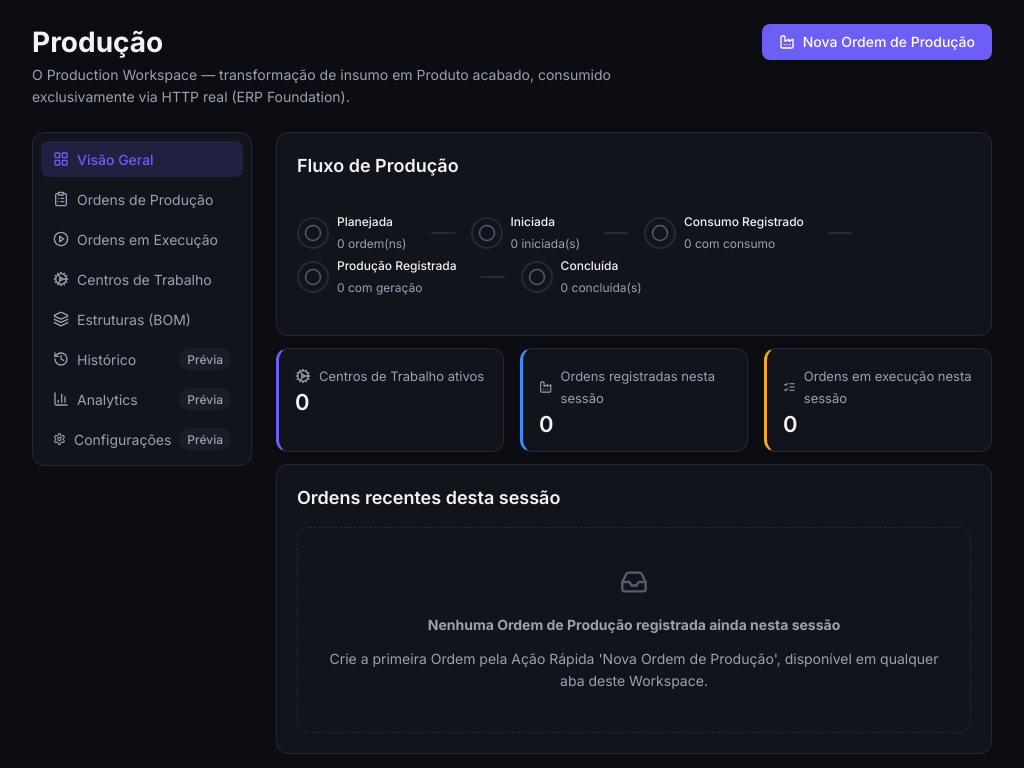
Test: ProductionPage — Production Workspace por seções (IMP-505) › Ordens de Produção: consulta por Order de origem mostra estado honesto quando nenhuma existe
The image size is (1024, 768).
Expected: the button "Visão Geral" is shown, [41,141,243,177]
Click the button "Ordens de Produção". click: coordinates (142, 199)
box: [41,181,243,217]
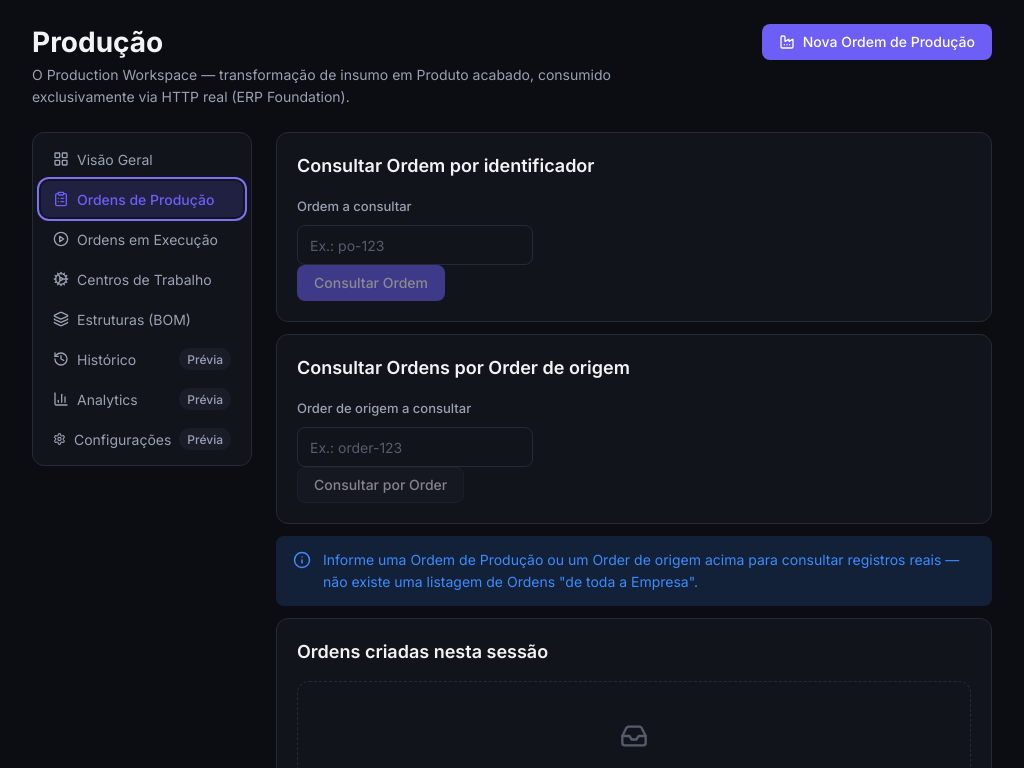
Type "order-nunca-usado" into the field labelled "Order de origem a consultar". click: coordinates (415, 447)
box: [297,427,533,467]
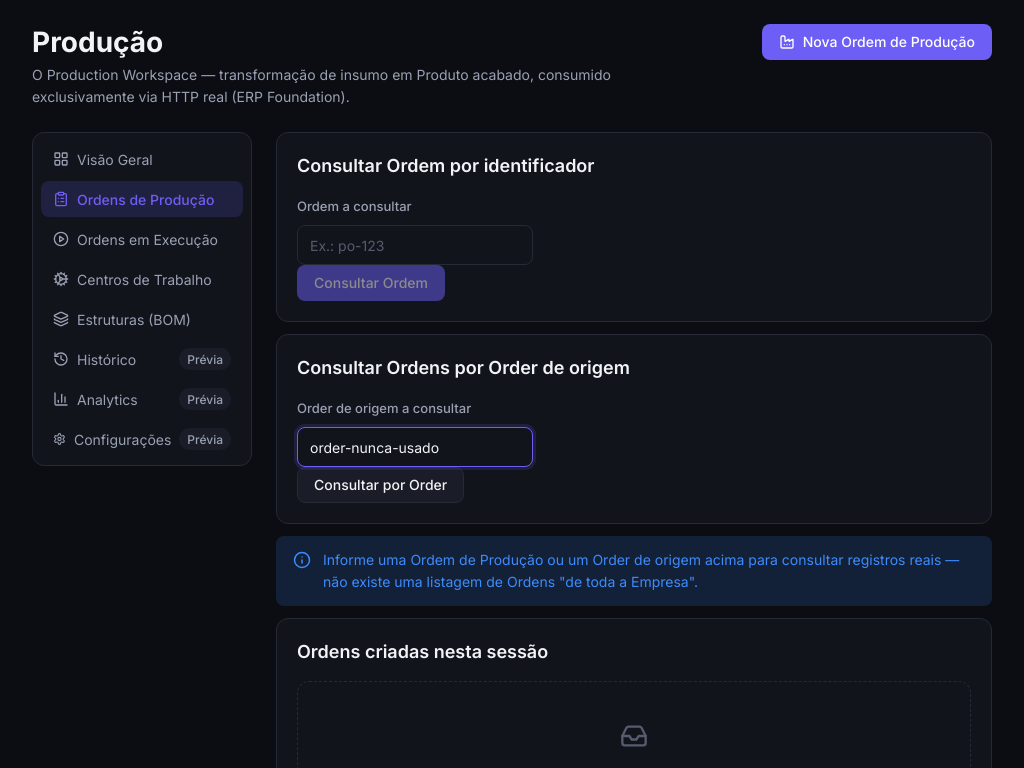
Click the button "Consultar por Order". click: coordinates (381, 485)
box: [297,467,464,503]
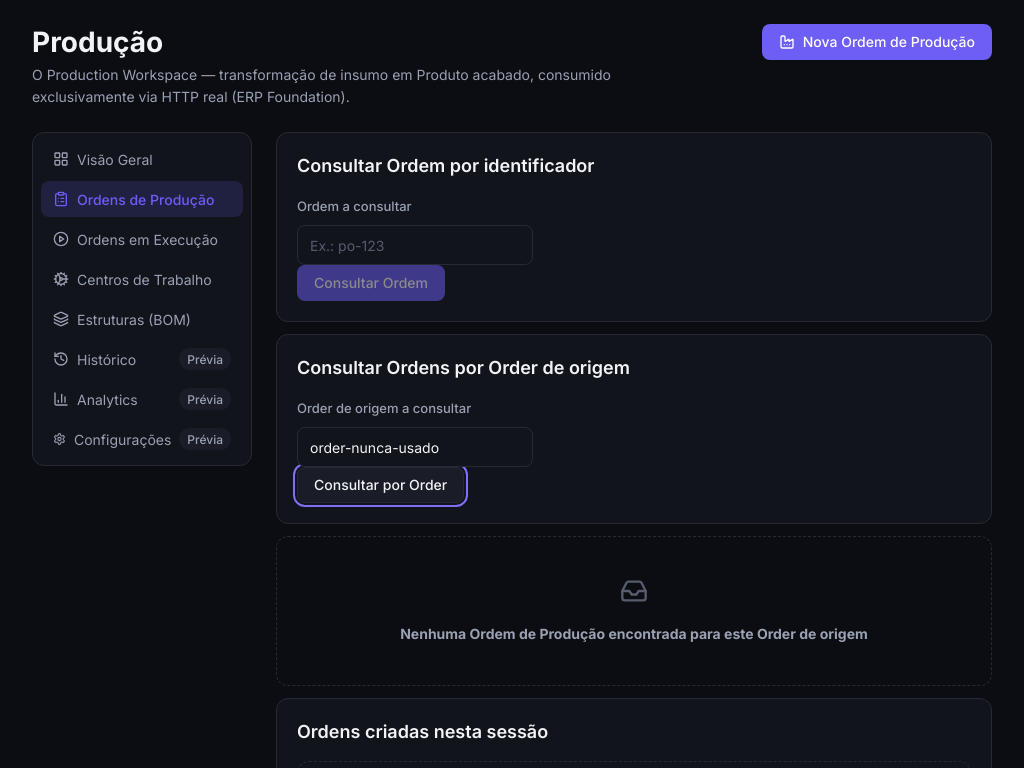
Expected: the text "Nenhuma Ordem de Produção encontrada para este Order de origem" is shown, [400,623,868,645]
